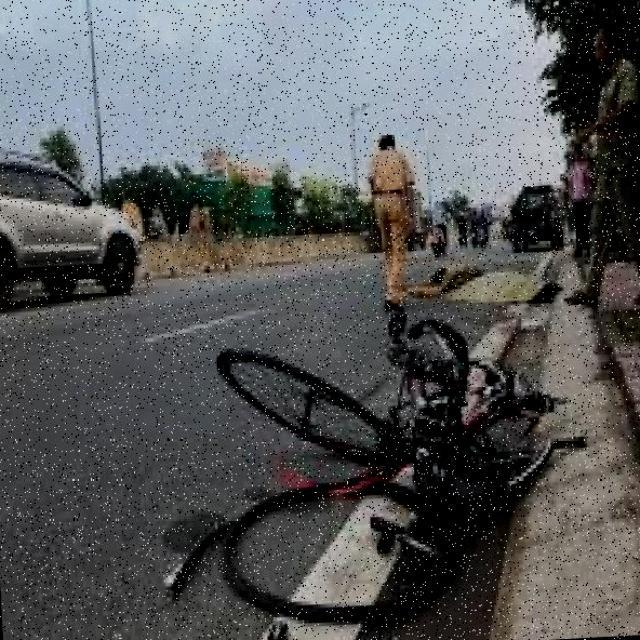accident: (198, 257, 606, 613)
